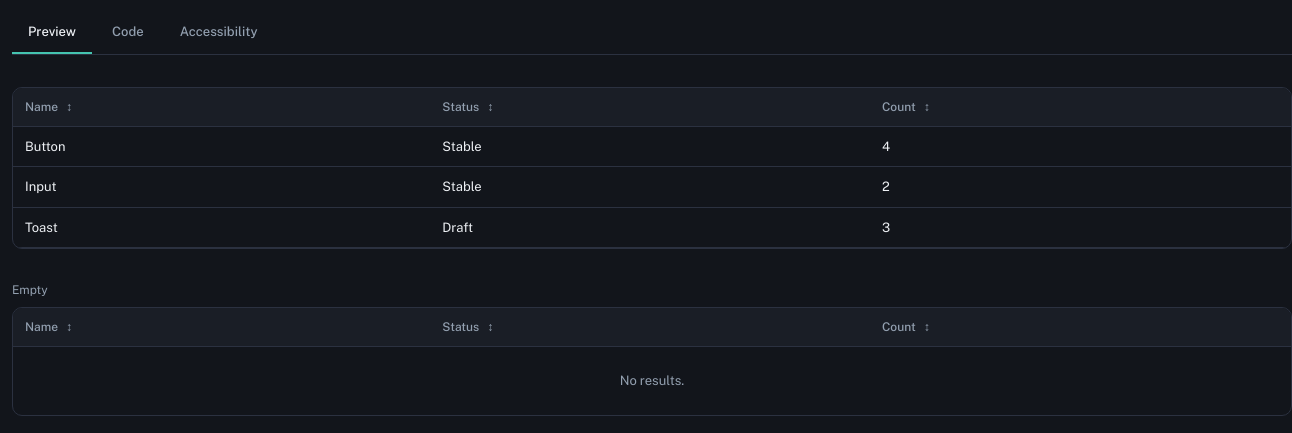
Test: DataTableDoc › switches to the Code tab and shows DataTable snippets
Click the tab "Code". click: (128, 33)
box: [96,12,160,54]
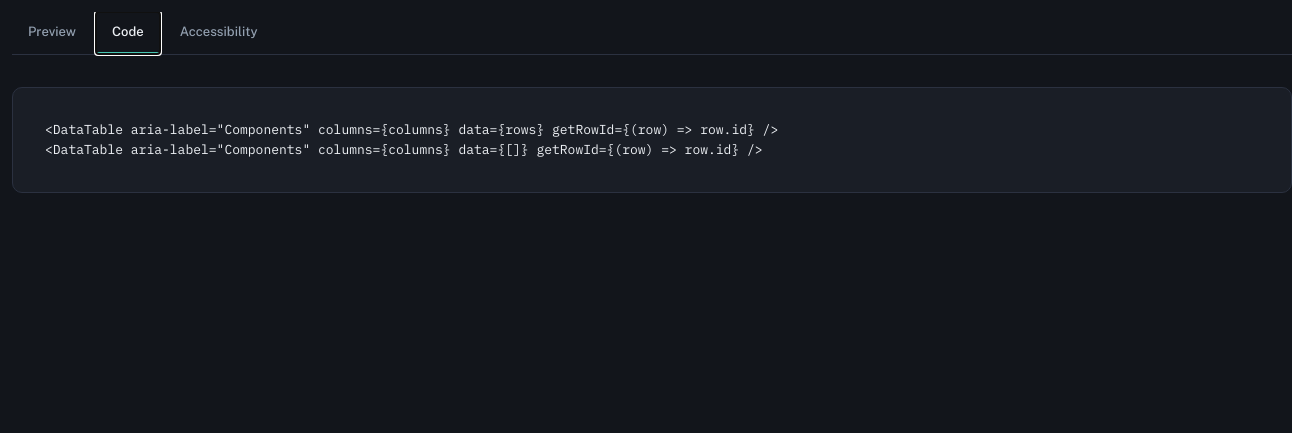
Check: the text "data={[]}" is shown, box [45,120,778,158]
